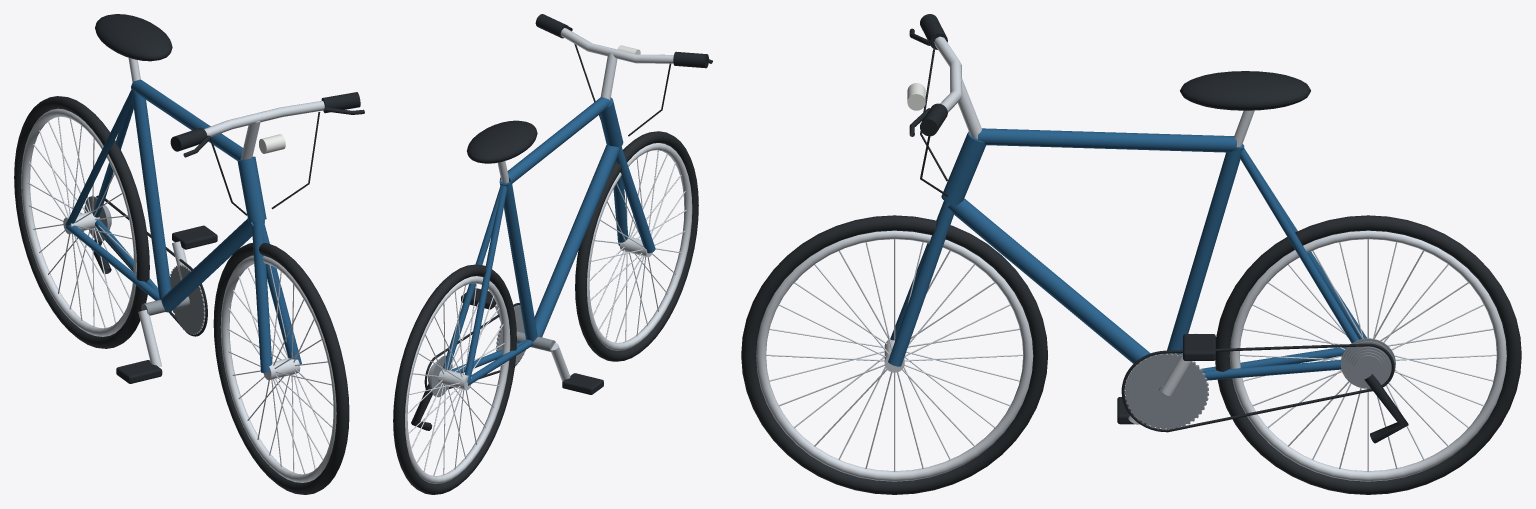
The model's file is commuter-bicycle.fbx.
3 views of the same model, side by side, from view 1: azimuth 30°, elevation 25°; view 2: azimuth 150°, elevation 25°; view 3: azimuth 270°, elevation 25° (orthographic). The views are drawn at different scales.
Visible parts, largest first — view 1: Front tire, Rear tire, Rear rim, Front rim, Seat tube, Saddle, Down tube, Fork, Top tube, Handlebar, 48 tooth chainring, Fork.001 (+15 smaller); view 2: Rear tire, Front tire, Down tube, Front rim, Rear rim, Saddle, Seat tube, Top tube, Seat stay, Fork, Handlebar, Seat stay.001 (+14 smaller); view 3: Front tire, Rear tire, Front rim, Rear rim, Down tube, 48 tooth chainring, Top tube, Saddle, Seat tube, Fork.001, Seat stay.001, Chain (+6 smaller).
Boxes of the visible parts, box(x1,y1,x2,y2) form: Front tire: box(213, 243, 349, 494); Rear tire: box(14, 96, 149, 348); Rear rim: box(21, 108, 136, 336); Front rim: box(220, 255, 336, 482); Seat tube: box(131, 86, 171, 299); Saddle: box(95, 14, 172, 61); Down tube: box(161, 218, 264, 312); Fork: box(252, 221, 272, 372); Top tube: box(131, 79, 242, 160); Handlebar: box(204, 100, 324, 136); 48 tooth chainring: box(170, 264, 205, 334); Fork.001: box(260, 220, 301, 364); Rear tire: box(393, 264, 516, 494); Front tire: box(575, 131, 698, 361); Down tube: box(534, 145, 621, 337); Front rim: box(587, 143, 692, 350); Rear rim: box(405, 276, 510, 483); Saddle: box(467, 120, 537, 163); Seat tube: box(499, 179, 537, 341); Top tube: box(500, 97, 610, 183); Seat stay: box(465, 183, 507, 382); Fork: box(616, 147, 655, 253); Handlebar: box(560, 28, 673, 63); Seat stay.001: box(443, 182, 503, 370); Front tire: box(741, 215, 1047, 494); Rear tire: box(1215, 215, 1521, 494); Front rim: box(756, 230, 1033, 481); Rear rim: box(1229, 230, 1506, 481); Down tube: box(947, 198, 1150, 363); 48 tooth chainring: box(1124, 353, 1208, 429); Top tube: box(978, 128, 1236, 152); Saddle: box(1180, 71, 1310, 110); Seat tube: box(1167, 144, 1244, 354); Fork.001: box(888, 201, 953, 366); Seat stay.001: box(1240, 145, 1359, 343); Chain: box(1121, 343, 1394, 432).
Size of the model in its own units: 58.01 by 108 by 178.
